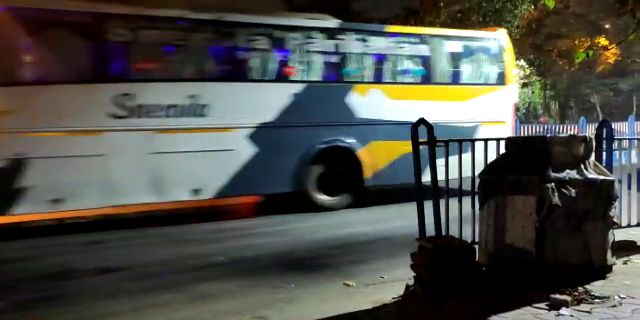Bus: (17, 2, 519, 213)
